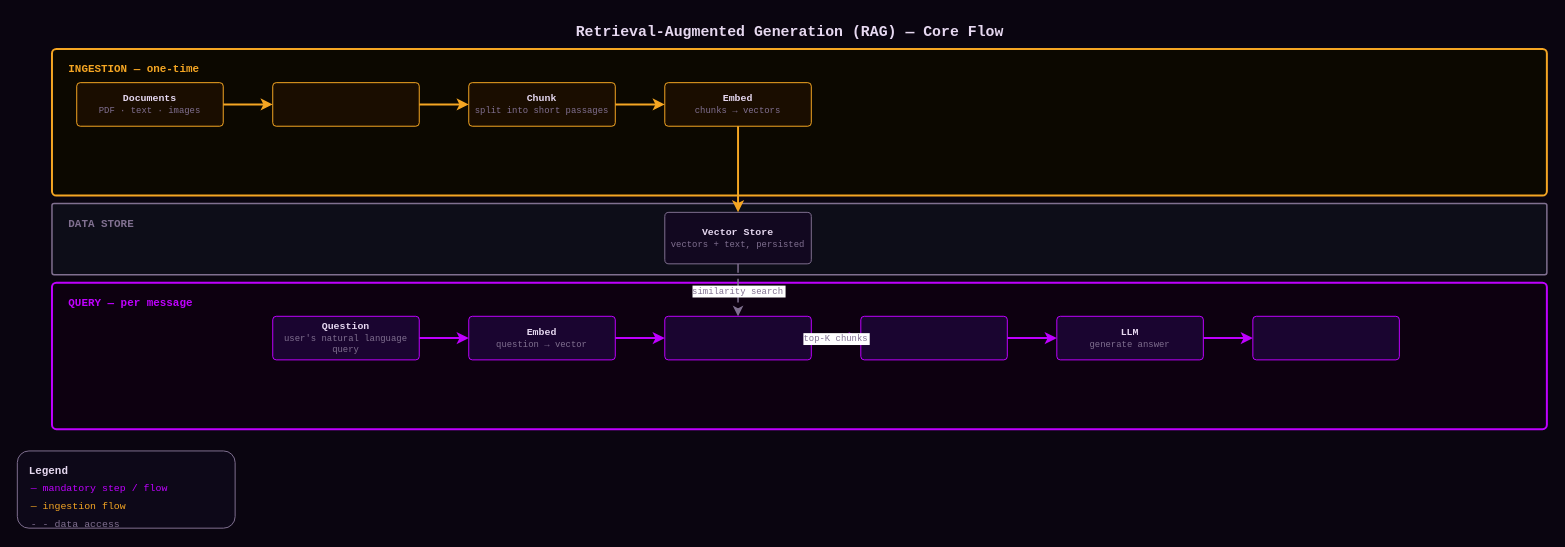
Image size: 1565x547. Some labels were removed from this diagram. The shapes that lost their labels are listed below. From the top down, each one's box as (x1, y1, x2, y2) in pixels, then its label:
(272, 82, 419, 126): Parse extract clean text
(664, 315, 811, 360): Retrieve find most similar chunks
(860, 315, 1007, 360): Build Prompt chunks + question + system prompt
(1252, 315, 1399, 360): Answer grounded in retrieved text
